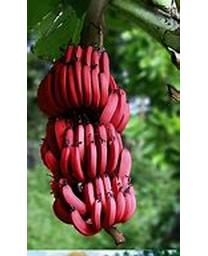banana: (36, 43, 139, 245)
